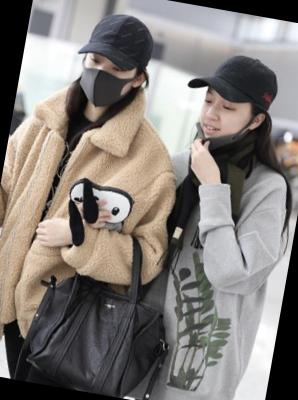mask_weared_incorrect: (196, 85, 259, 151)
with_mask: (76, 54, 139, 112)
